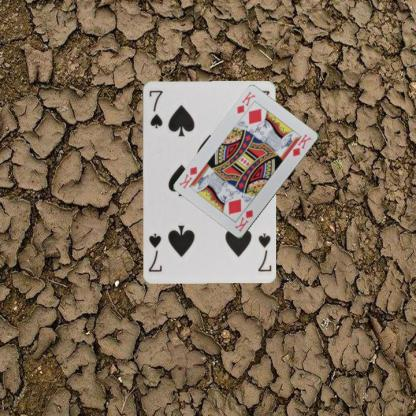7s: (146, 88, 164, 130), (255, 230, 272, 272)
Kd: (234, 89, 257, 116), (232, 207, 255, 233)
